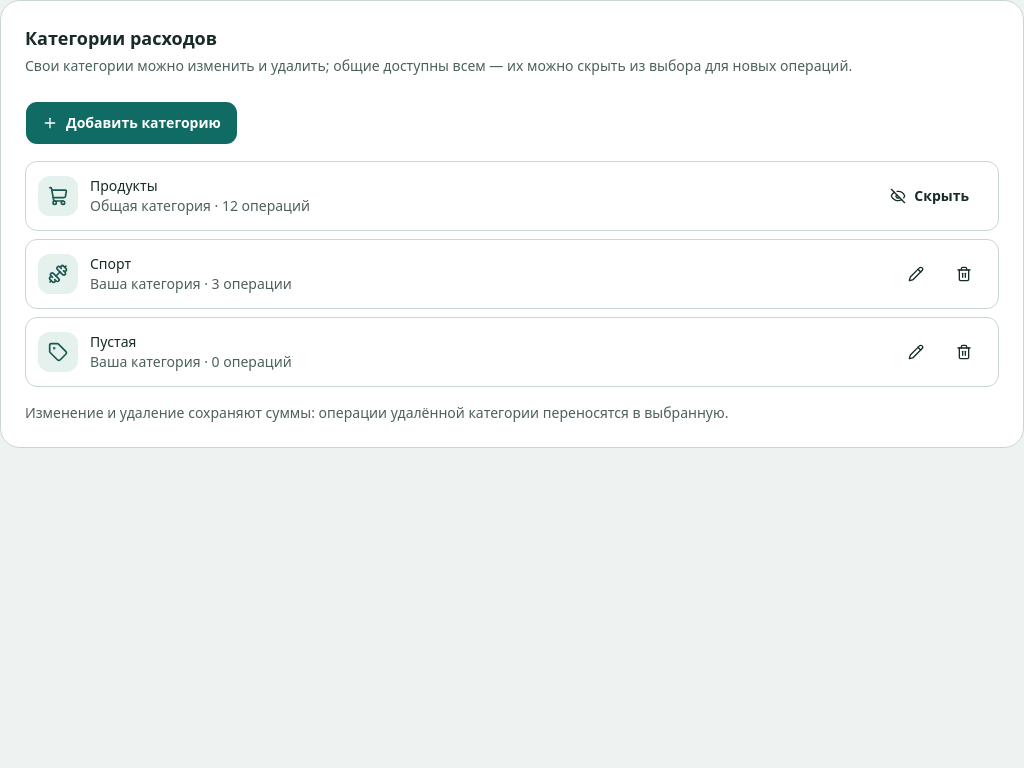
Test case: SPEC-0042 categories › stops a deletion when the operation count changed since the list loaded
The image size is (1024, 768).
Click the button named "Удалить Спорт" at x=964, y=274, box [942,252,986,296]
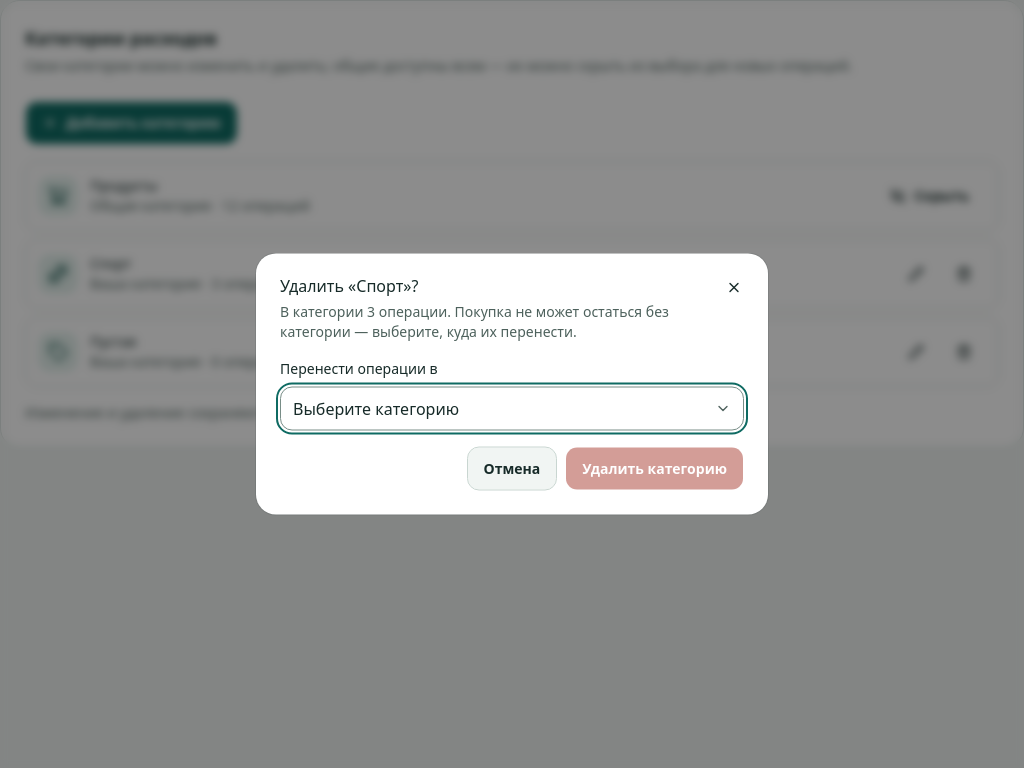
Click the dropdown at x=376, y=408, box [280,386,744,430]
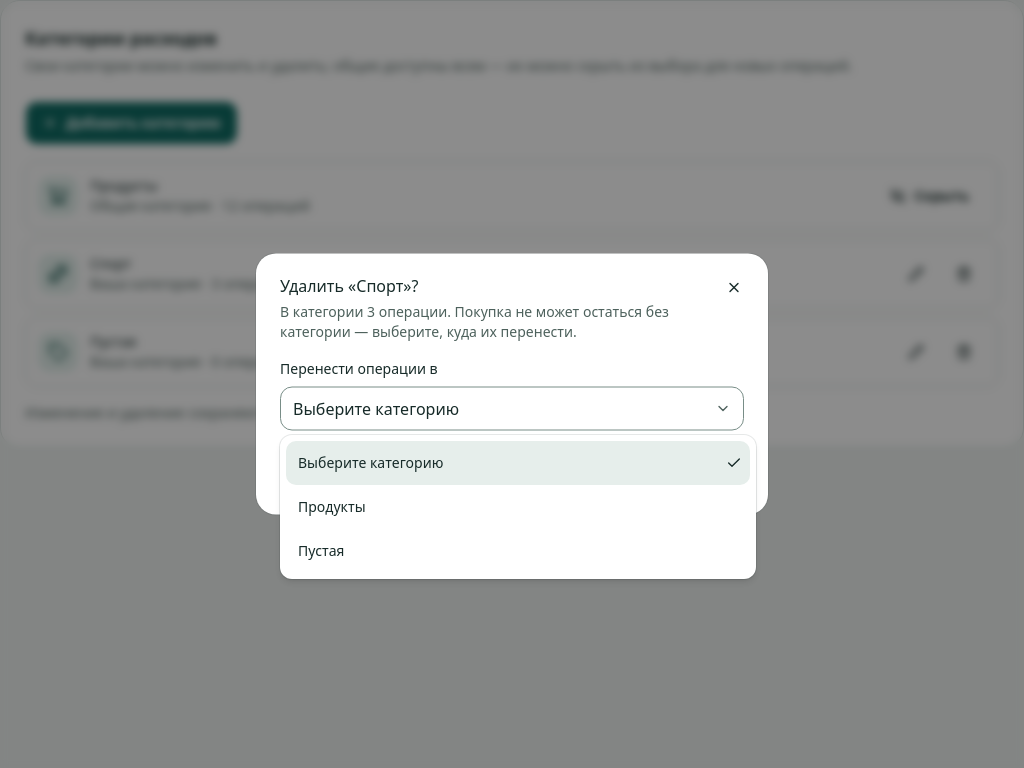
Click the option "Продукты" at x=332, y=506, box [298,497,366,516]
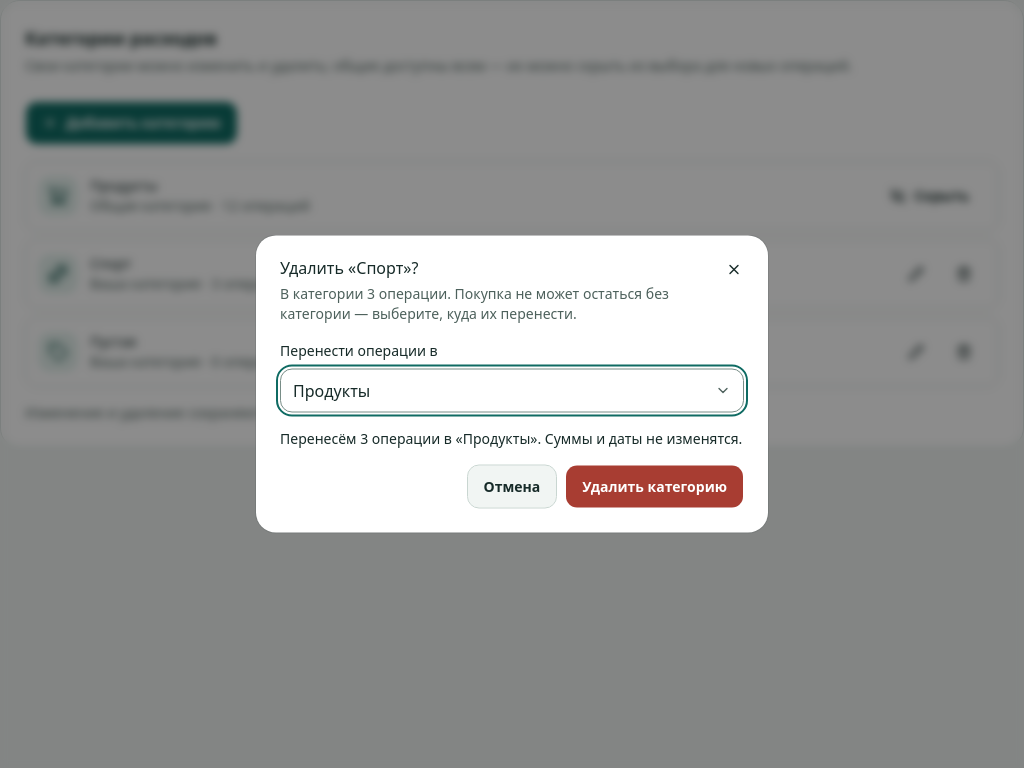
Click the button "Удалить категорию" at x=655, y=486, box [565,464,744,508]
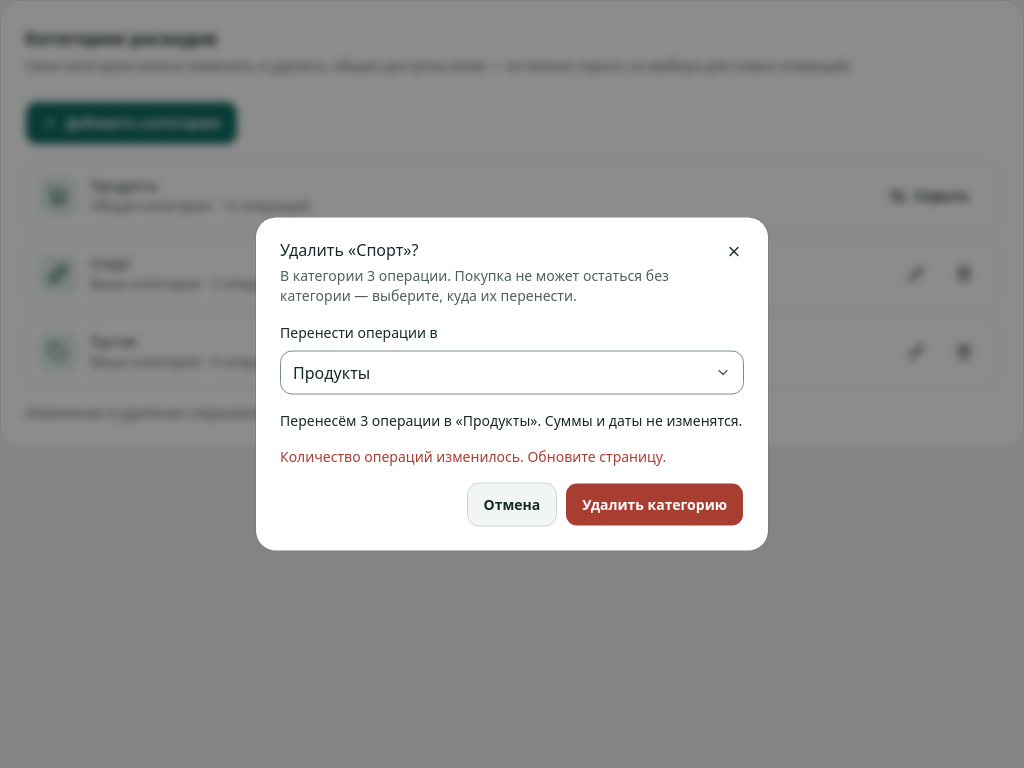
Result: the message shows "Количество операций изменилось" at [280,446,666,466]
